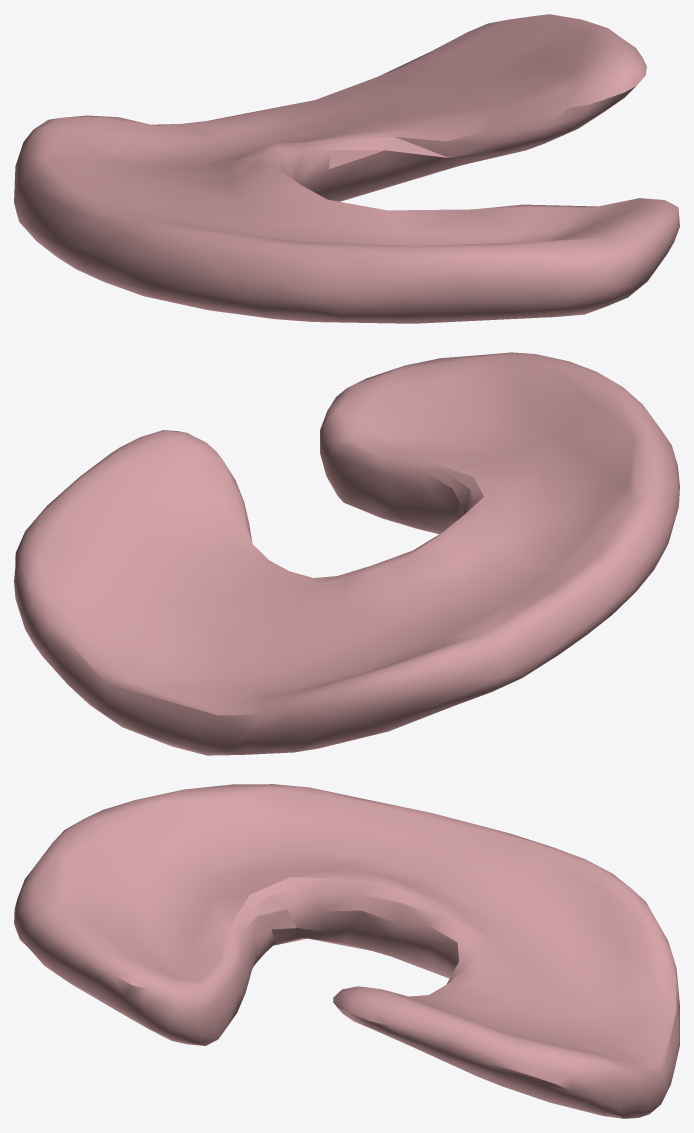
File: fma44632_mm1395m.glb
3 renders of one model, top to bottom at view 1: azimuth 30°, elevation 25°; view 2: azimuth 150°, elevation 25°; view 3: azimuth 270°, elevation 25°, orthographic. The views are drawn at different scales.
Parts seen in each view (by area): view 1: FMA44632_MM1395M; view 2: FMA44632_MM1395M; view 3: FMA44632_MM1395M.
Part boxes in pixels (left/top/right/bottom): FMA44632_MM1395M: left=14, top=14, right=679, bottom=323; FMA44632_MM1395M: left=14, top=352, right=679, bottom=755; FMA44632_MM1395M: left=14, top=784, right=679, bottom=1118.
Size of the model in its own units: 0.0346 by 0.012 by 0.0384.
